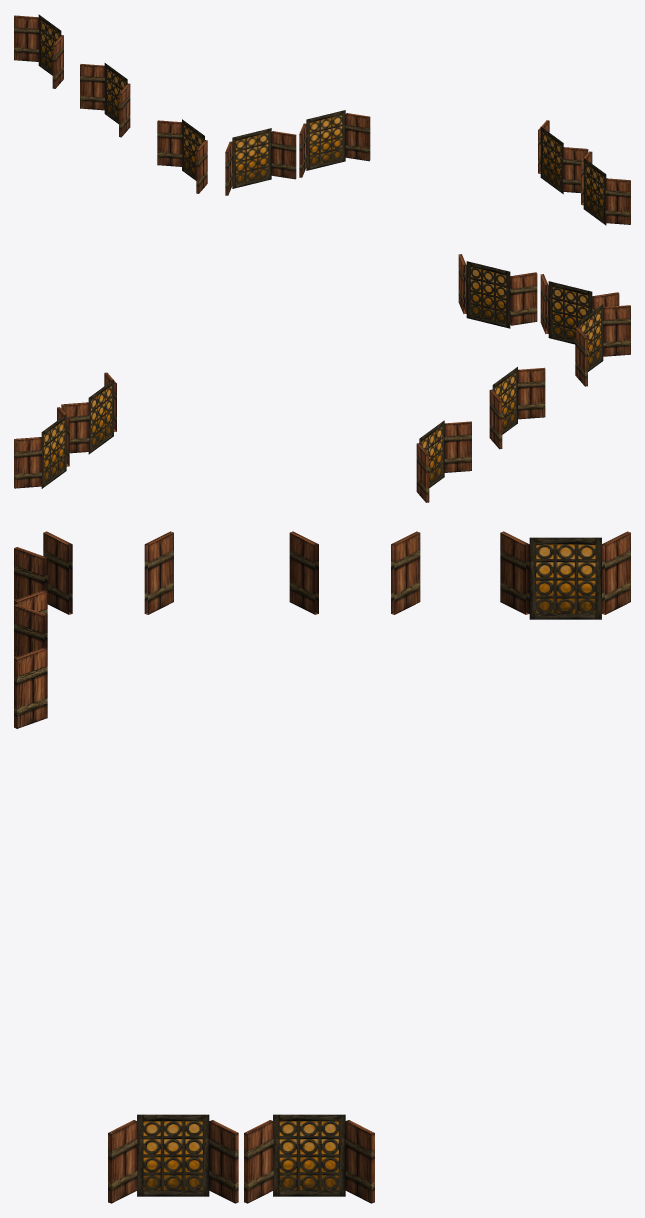
The model's file is LAKETOWN_EXTERIOR_PS_LT_ROUND_WINDOW1_15.fbx.
3 renders of one model, top to bottom at view 1: azimuth 30°, elevation 25°; view 2: azimuth 150°, elevation 25°; view 3: azimuth 270°, elevation 25°, orthographic. The views are drawn at different scales.
Parts seen in each view (by area): view 1: LAKETOWN_EXTERIOR_PS_LT_ROUND_WINDOW1_15; view 2: LAKETOWN_EXTERIOR_PS_LT_ROUND_WINDOW1_15; view 3: LAKETOWN_EXTERIOR_PS_LT_ROUND_WINDOW1_15.
Boxes of the visible parts, left/top/right/bottom form: LAKETOWN_EXTERIOR_PS_LT_ROUND_WINDOW1_15: left=14, top=14, right=630, bottom=225; LAKETOWN_EXTERIOR_PS_LT_ROUND_WINDOW1_15: left=14, top=254, right=630, bottom=502; LAKETOWN_EXTERIOR_PS_LT_ROUND_WINDOW1_15: left=14, top=531, right=630, bottom=1203.
Size of the model in its own units: 135595 by 59097 by 99886.
2 materials, 2 textured.
